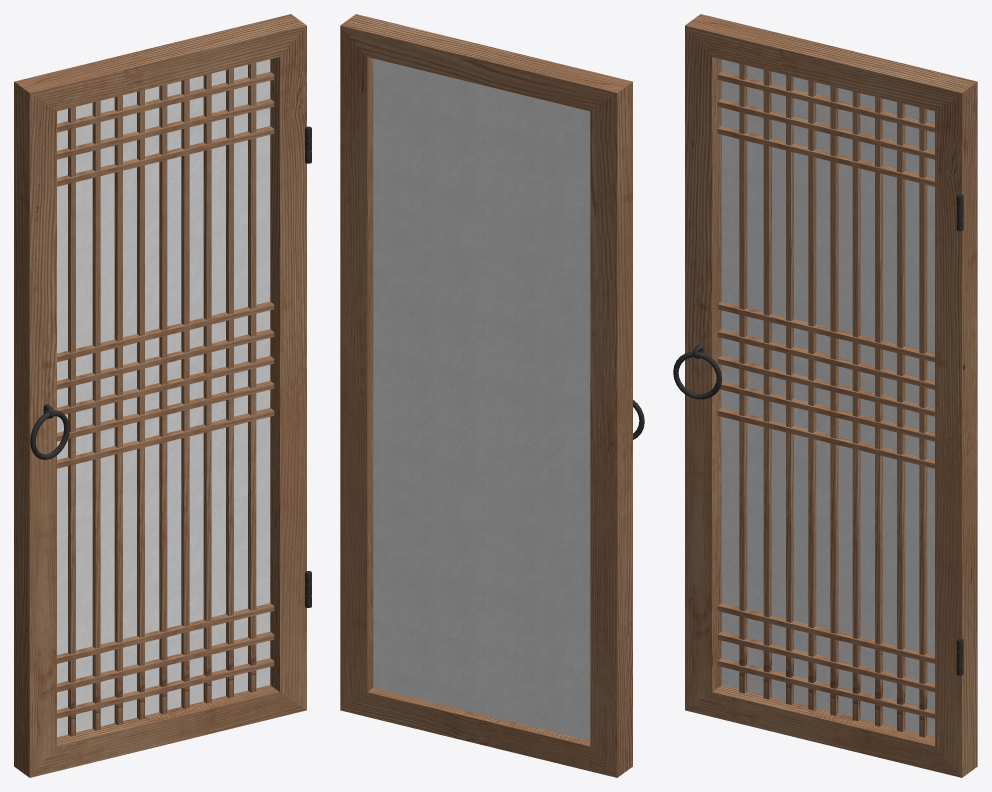
Rendered from SM_Yeonkyung_Sarangchae_Win_B_001.fbx.
3 views of the same model, side by side, from view 1: azimuth 30°, elevation 25°; view 2: azimuth 150°, elevation 25°; view 3: azimuth 330°, elevation 25° (orthographic).
Visible parts, largest first — view 1: SM_Yeonkyung_Sarangchae_Win_B_001; view 2: SM_Yeonkyung_Sarangchae_Win_B_001; view 3: SM_Yeonkyung_Sarangchae_Win_B_001.
Boxes of the visible parts, <box> form: SM_Yeonkyung_Sarangchae_Win_B_001: <box>14,14,311,777</box>; SM_Yeonkyung_Sarangchae_Win_B_001: <box>340,14,644,777</box>; SM_Yeonkyung_Sarangchae_Win_B_001: <box>673,14,977,777</box>.
Bounding box in the file's own units: 59.82 × 137 × 8.41.
